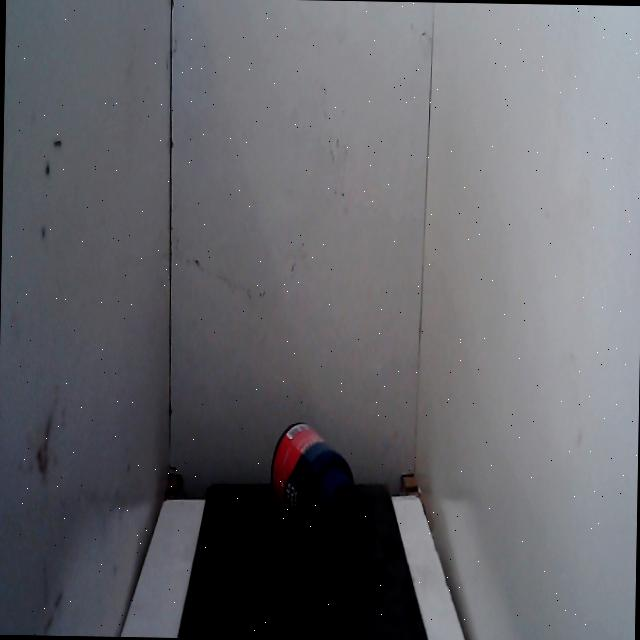plastico: (249, 370, 373, 600)
